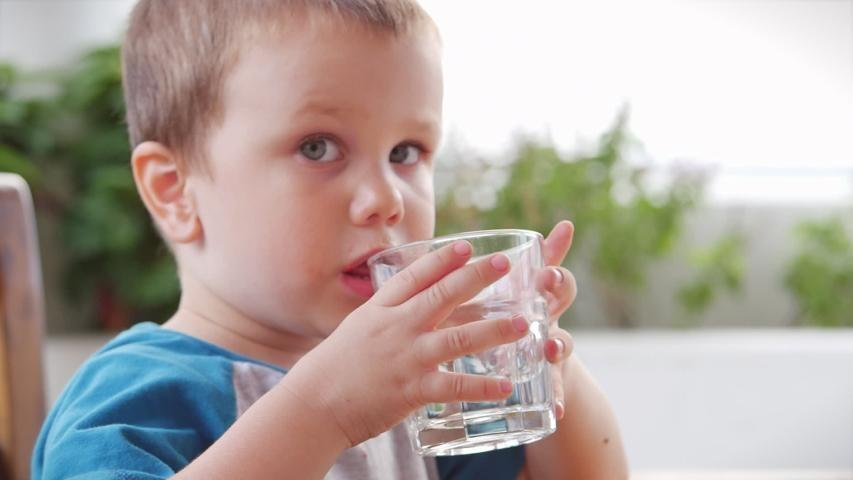glass-normal: (366, 227, 564, 457)
